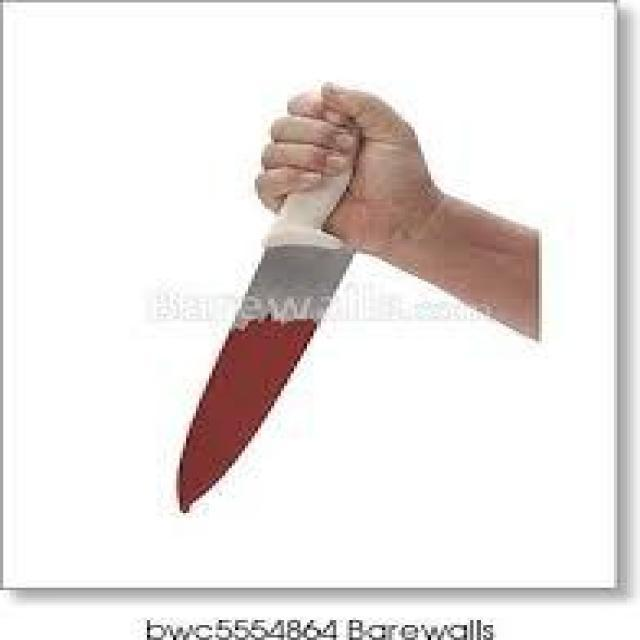faca: (127, 47, 428, 518)
